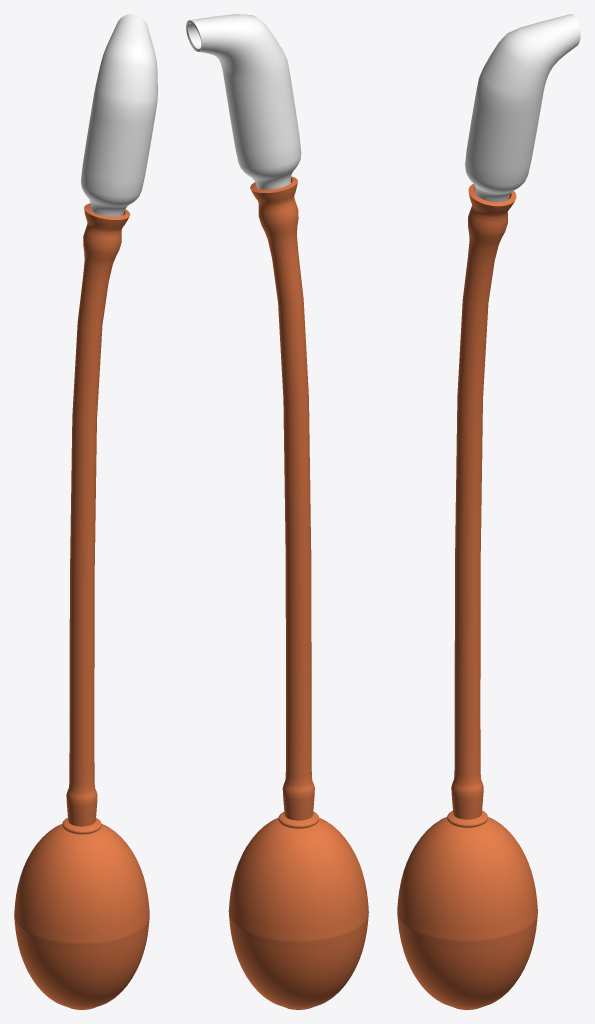
The model's file is Kapilarrohr.glb.
3 renders of one model, left to right at view 1: azimuth 30°, elevation 25°; view 2: azimuth 150°, elevation 25°; view 3: azimuth 330°, elevation 25°, orthographic. The views are drawn at different scales.
Parts seen in each view (by area): view 1: Kapilarrohr; view 2: Kapilarrohr; view 3: Kapilarrohr.
Boxes of the visible parts, left/top/right/bottom form: Kapilarrohr: left=14, top=14, right=157, bottom=1009; Kapilarrohr: left=186, top=14, right=368, bottom=1009; Kapilarrohr: left=397, top=14, right=580, bottom=1009.
Size of the model in its own units: 0.0582 by 0.3615 by 0.0468.
